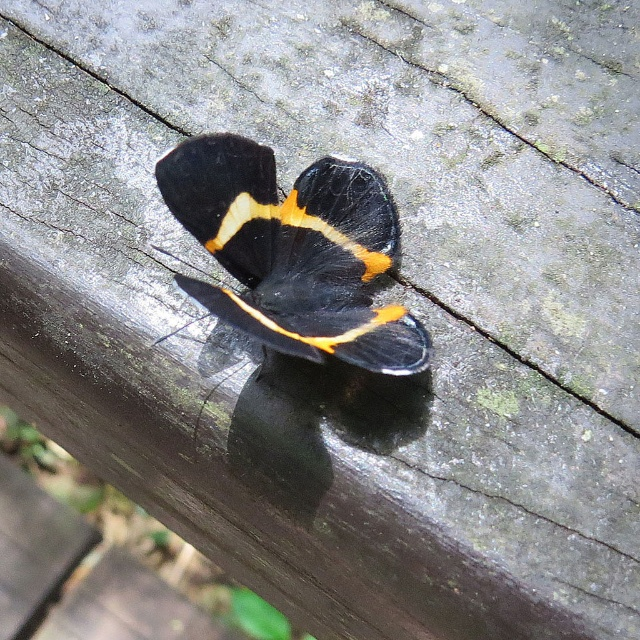Butterfly: (145, 133, 430, 452)
